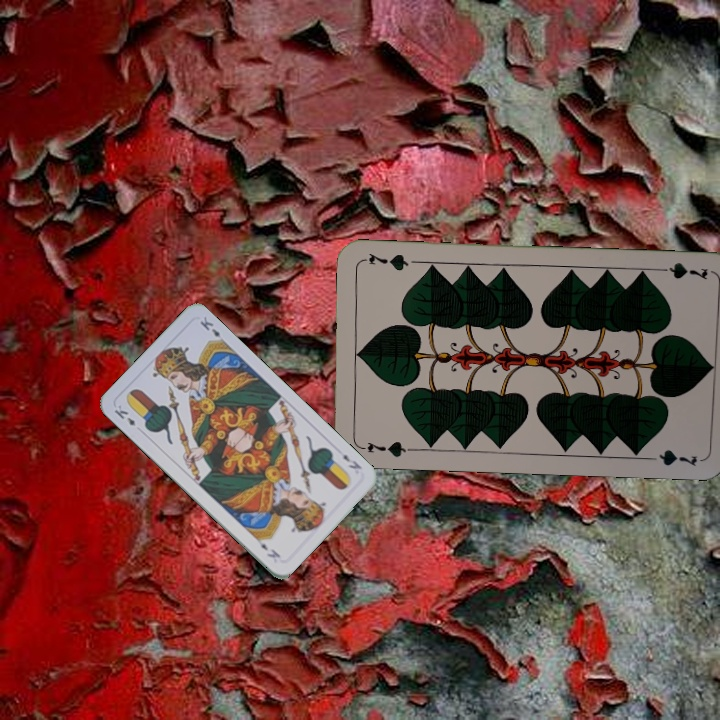EK: (110, 401, 145, 434), (334, 444, 364, 472)
G7: (652, 259, 710, 283), (355, 438, 414, 460)
